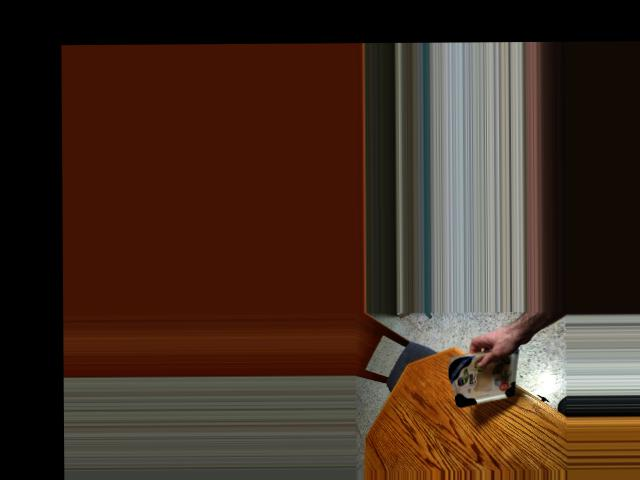cheese: (444, 351, 527, 401)
